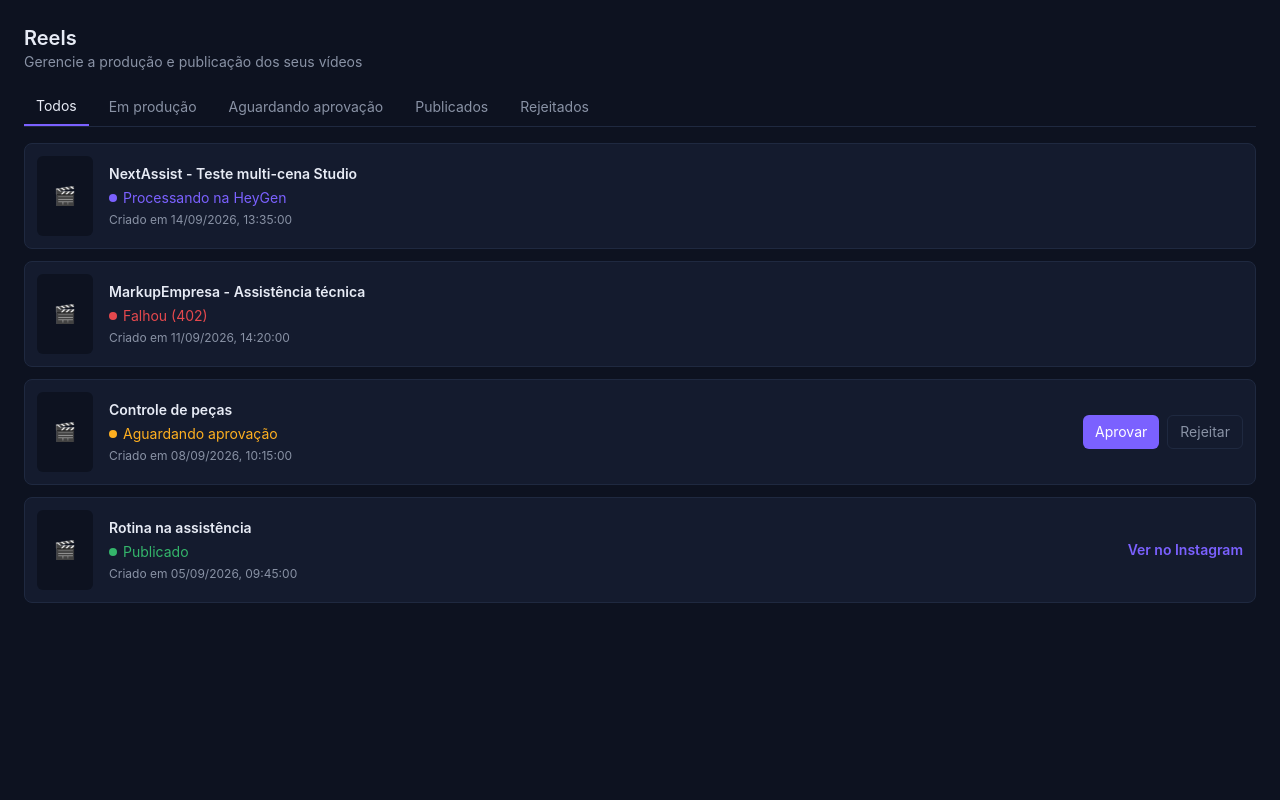
Scenario: ReelApprovalPanel › cada aba filtra pelo status real correspondente
Expected: the link "NextAssist - Teste multi-cena Studio" is shown, [109,165,357,182]
Click the tab "Publicados" at (452, 107), box [403,88,500,126]
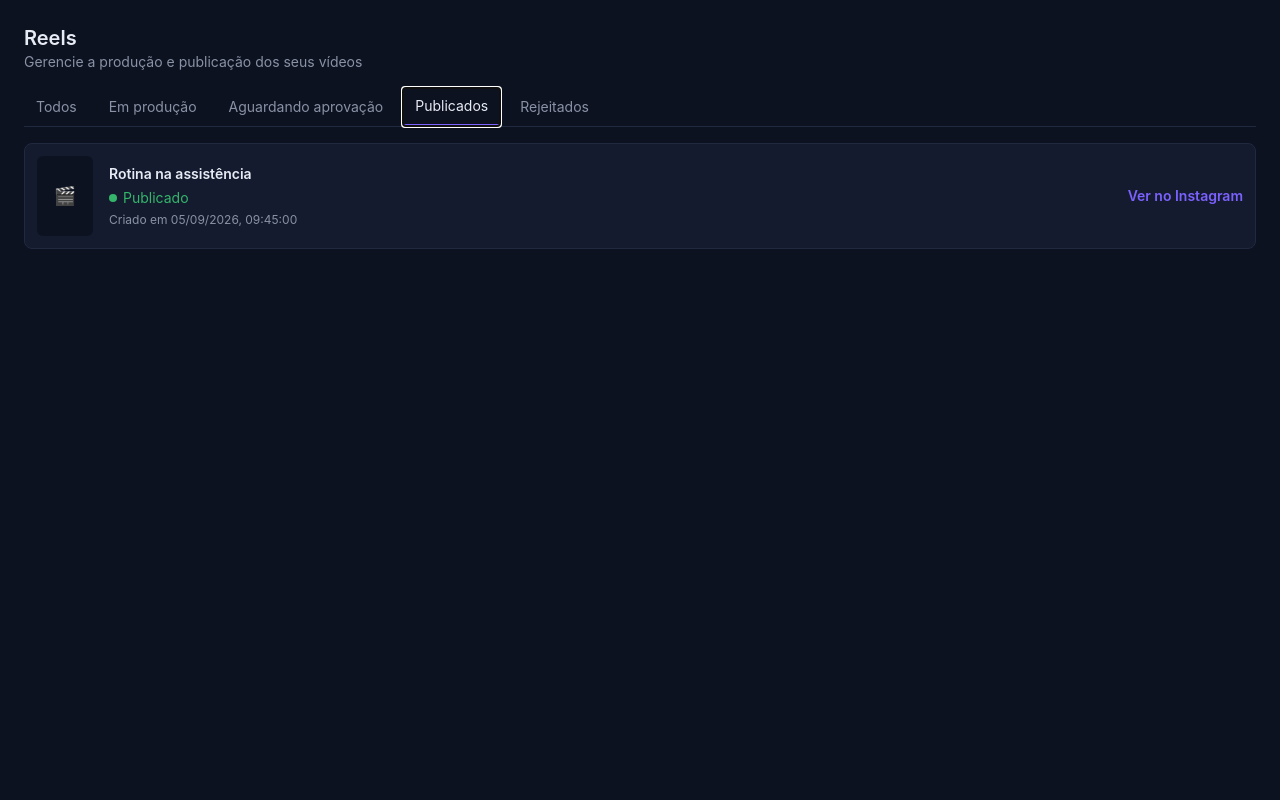
Expected: the link "Rotina na assistência" is shown, [109,165,252,182]
Expected: the link "Controle de peças" is gone
Click the tab "Aguardando aprovação" at (306, 107), box [217,88,395,126]
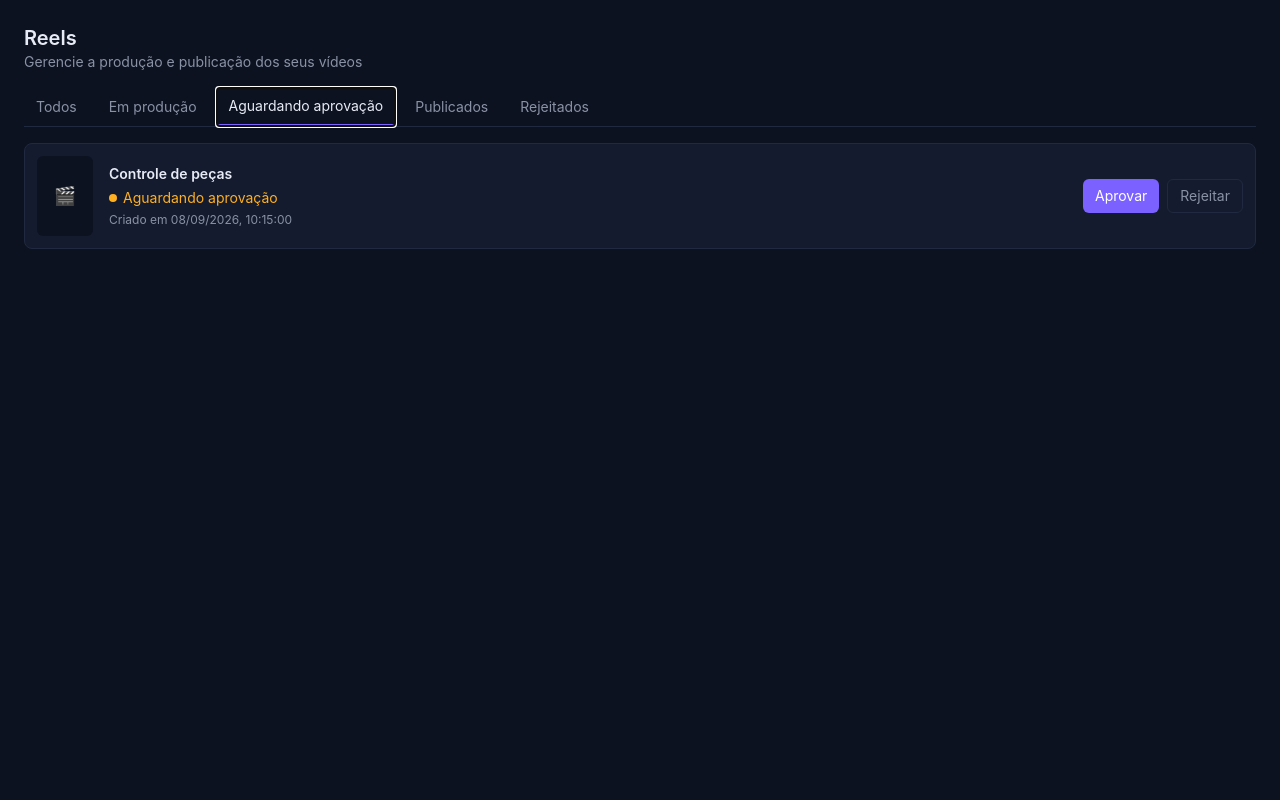
Expected: the link "Controle de peças" is shown, [109,165,232,182]
Expected: the link "Rotina na assistência" is gone
